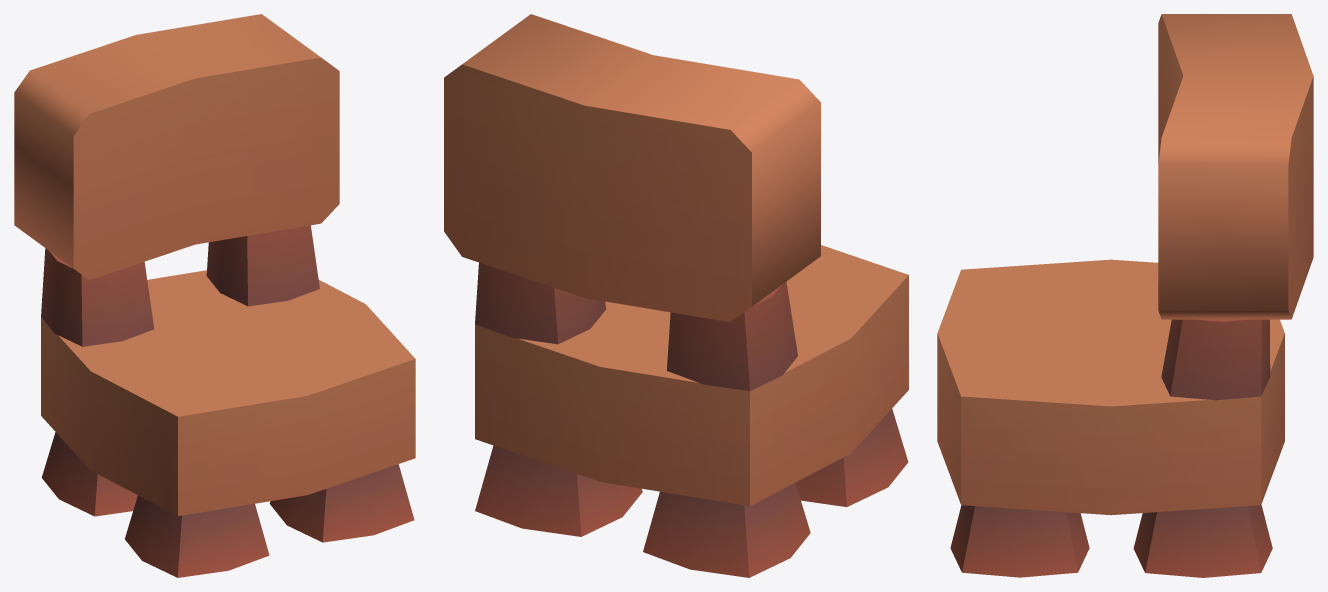
The model's file is chair.glb.
The picture shows the model from 3 angles, left to right: view 1: azimuth 30°, elevation 25°; view 2: azimuth 150°, elevation 25°; view 3: azimuth 270°, elevation 25°; orthographic projection. The views are drawn at different scales.
Visible parts, largest first — view 1: chair; view 2: chair; view 3: chair.
Part boxes in pixels (x1,y1,x2,y2): chair: (14, 14, 415, 577); chair: (444, 14, 908, 577); chair: (937, 14, 1313, 577).
Bounding box in the file's own units: 0.3465 × 0.4773 × 0.3751.
Materials: 1 (1 with a texture image).
